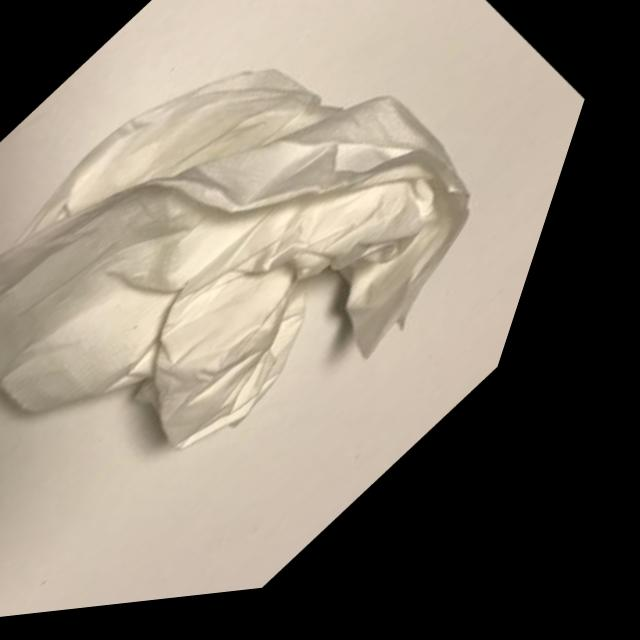trash: (0, 0, 632, 631)
